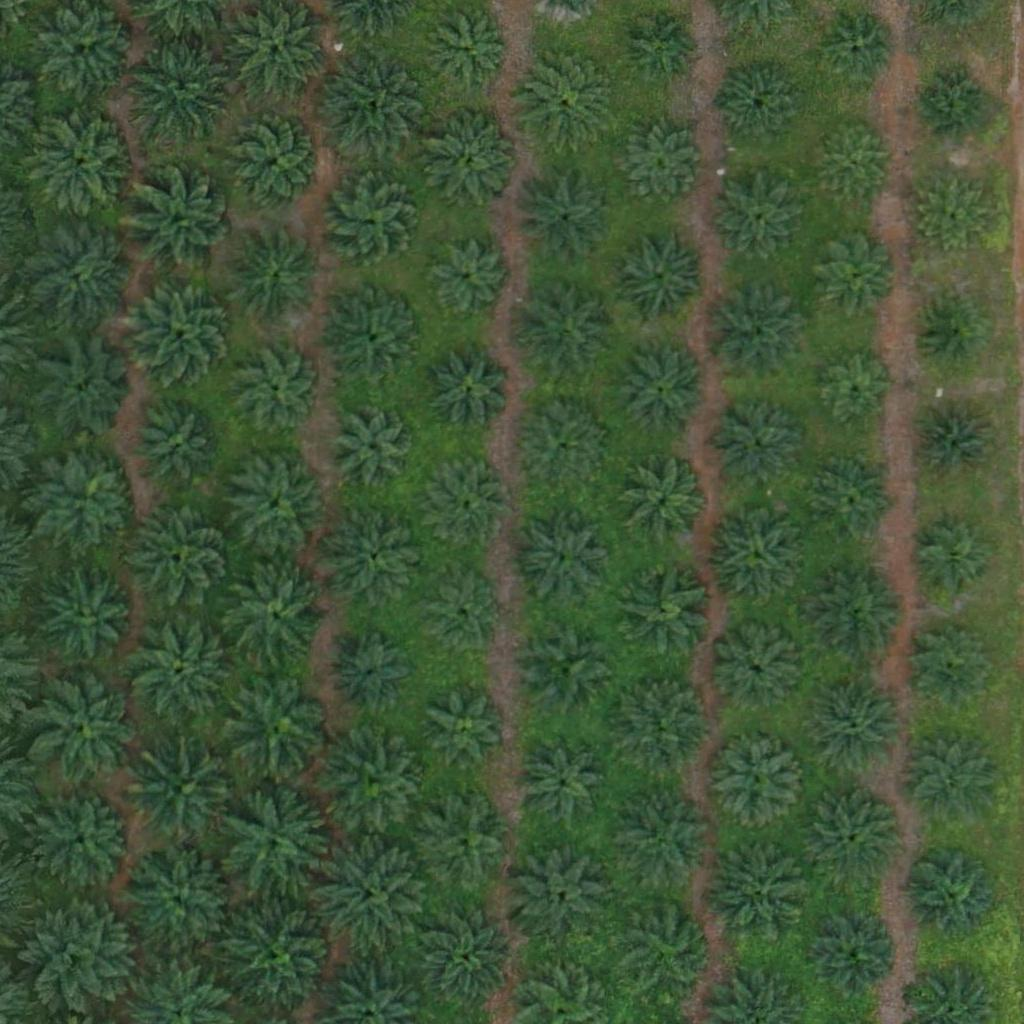Kelapa_Sawit: (129, 34, 242, 148), (123, 166, 236, 279), (125, 276, 238, 389), (24, 899, 137, 1012), (217, 786, 330, 899), (315, 838, 428, 951), (316, 50, 428, 164), (29, 673, 141, 786), (124, 612, 236, 725), (131, 739, 243, 852), (124, 845, 236, 958), (224, 904, 336, 1017), (520, 50, 620, 151), (703, 284, 803, 385), (608, 115, 708, 216), (608, 225, 708, 326), (514, 165, 614, 266), (327, 506, 427, 607), (225, 225, 325, 326), (226, 453, 326, 554), (226, 570, 326, 671), (130, 507, 230, 608), (29, 112, 129, 213), (26, 224, 126, 325), (35, 340, 135, 441), (36, 450, 136, 551), (33, 564, 133, 665), (35, 790, 135, 891), (517, 618, 617, 719), (612, 671, 712, 772), (617, 792, 717, 893), (708, 731, 808, 832), (707, 842, 807, 943), (810, 676, 910, 777), (803, 787, 903, 888), (902, 846, 1002, 947), (228, 2, 328, 102), (806, 565, 906, 665), (706, 504, 806, 604), (612, 561, 712, 661), (517, 281, 617, 381), (512, 508, 612, 608), (422, 109, 522, 209), (321, 171, 421, 271), (325, 287, 425, 387), (225, 112, 325, 212), (227, 674, 327, 774), (325, 734, 425, 834), (413, 792, 513, 892), (511, 840, 611, 940), (620, 901, 720, 1001), (718, 62, 806, 151), (714, 627, 802, 716), (617, 2, 705, 90), (908, 520, 996, 608), (811, 457, 899, 545), (713, 176, 801, 264), (712, 401, 800, 489), (425, 238, 513, 326), (134, 402, 222, 490), (519, 741, 607, 829), (808, 911, 896, 999), (809, 229, 896, 317), (912, 401, 999, 489), (617, 349, 704, 437), (620, 460, 707, 548), (520, 409, 607, 497), (332, 401, 419, 489), (234, 345, 321, 433), (425, 912, 512, 1000), (908, 621, 995, 709), (908, 736, 995, 824), (432, 12, 507, 88), (434, 355, 509, 431), (432, 466, 507, 542), (335, 636, 410, 712), (429, 689, 504, 765), (822, 13, 897, 88), (820, 355, 895, 430), (912, 176, 987, 251), (919, 68, 994, 143), (814, 124, 889, 199), (424, 581, 499, 656), (917, 299, 980, 362)
